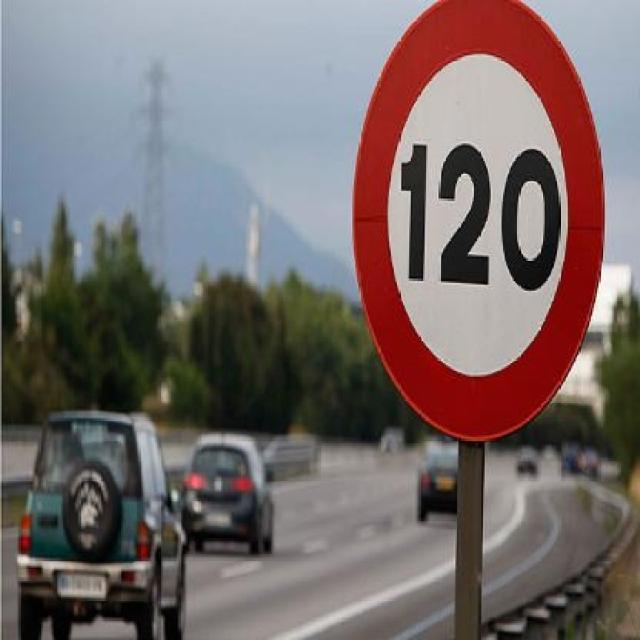forb_speed_over_120: (356, 13, 596, 430)
